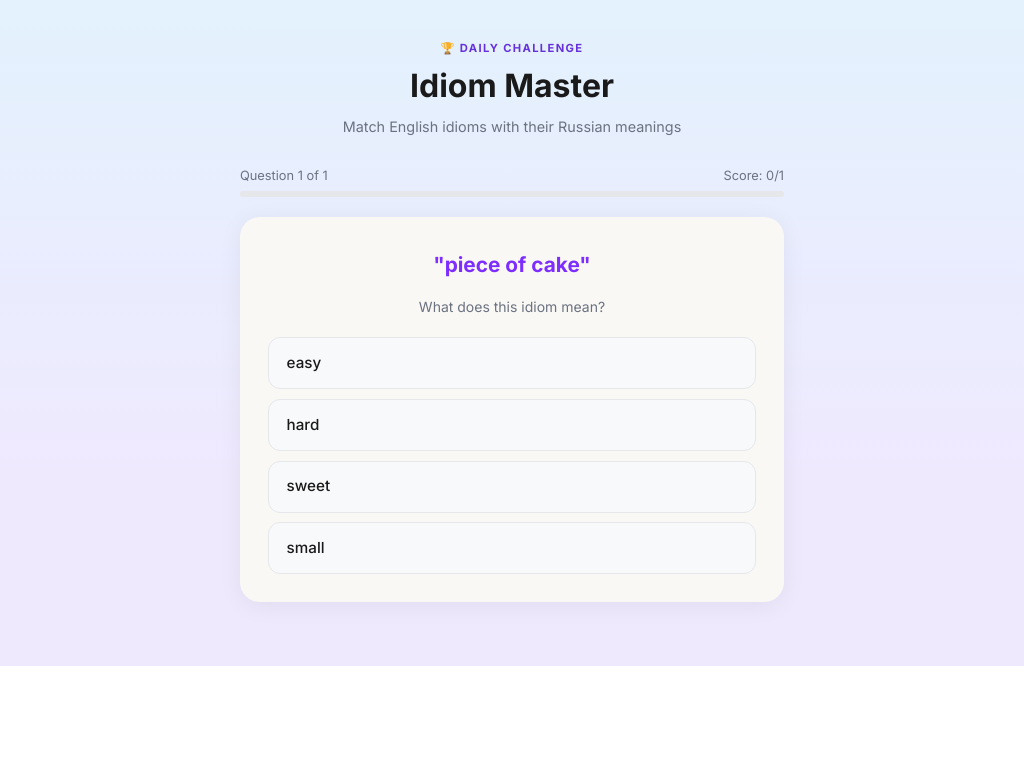
Test: DailyChallengePage › selects a wrong answer and shows Not quite feedback
What coordinates should you click on to do the following:
click the button "hard"
I would click on:
 (303, 424)
Its box is [268, 399, 756, 451].
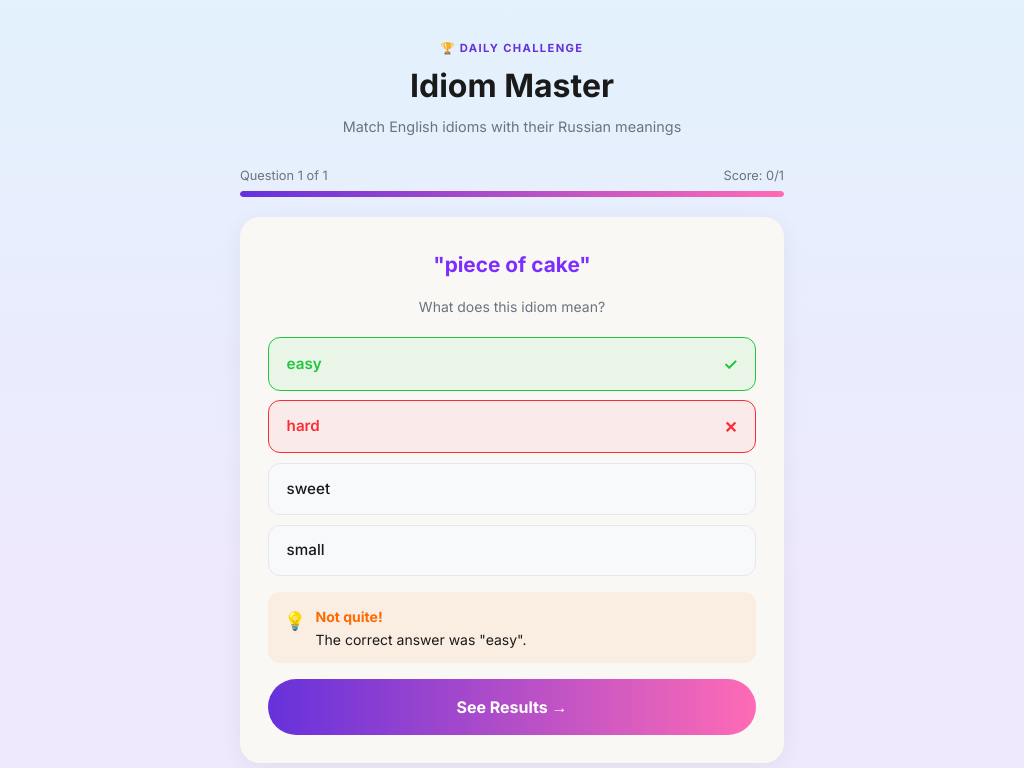
Now the text "Not quite!" is shown, box [316, 608, 383, 625]
